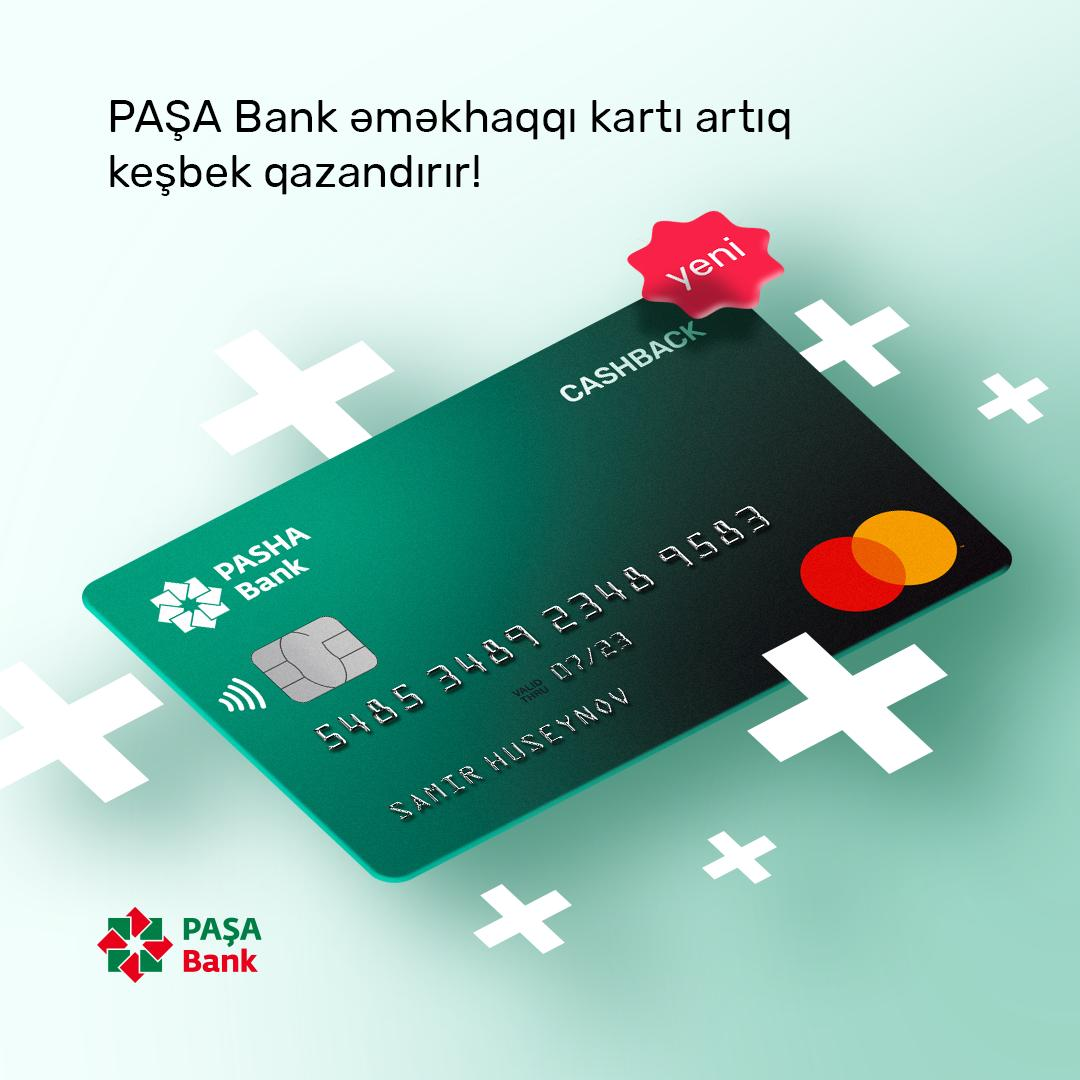Pasha Bank: (93, 903, 176, 984), (150, 574, 232, 635)
